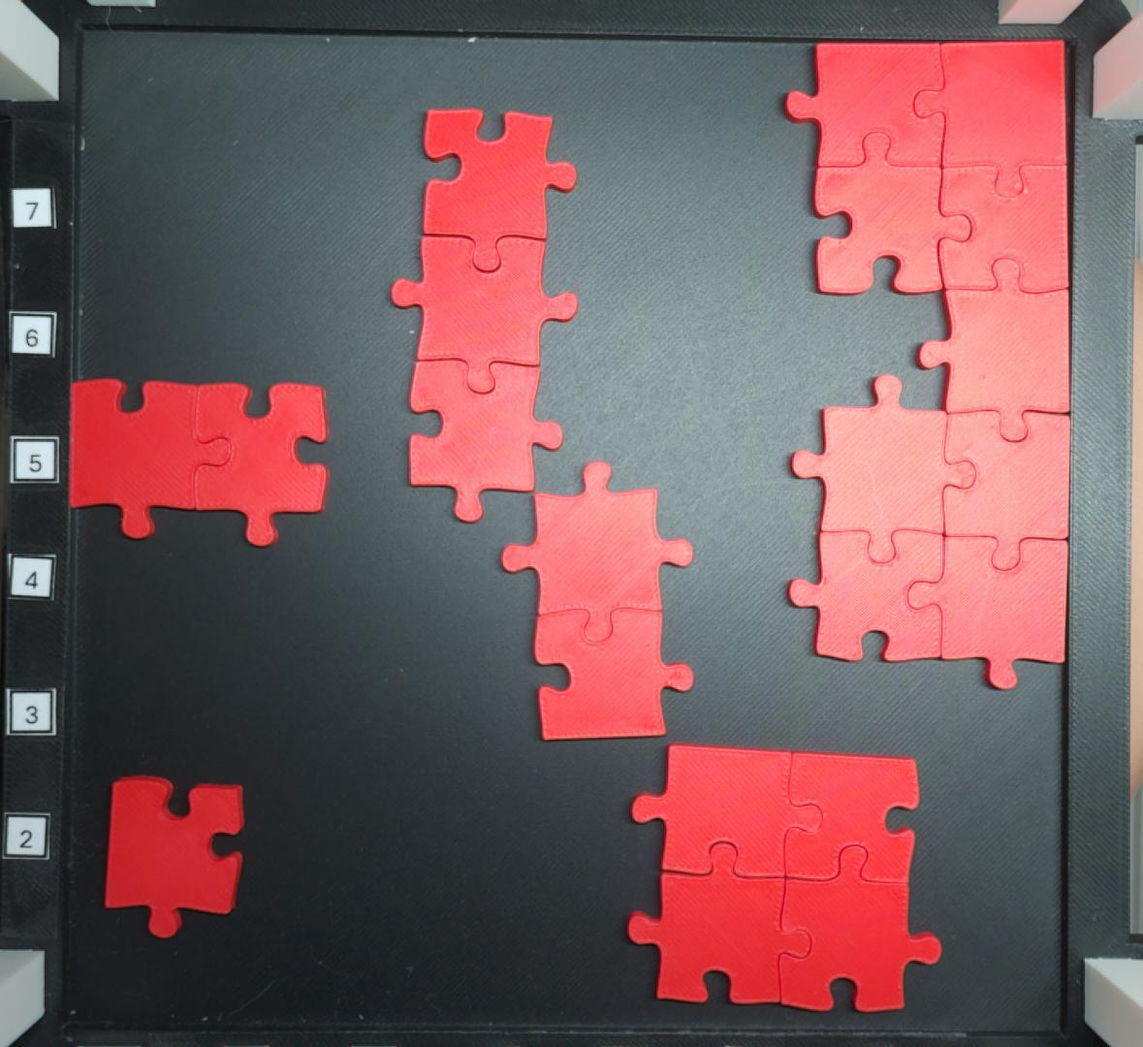p_1: (106, 776, 245, 937)
p_2: (497, 461, 695, 742), (67, 378, 331, 548)
p_3: (390, 107, 579, 523)
p_4: (626, 742, 943, 1013)
p_m: (786, 39, 1073, 690)
